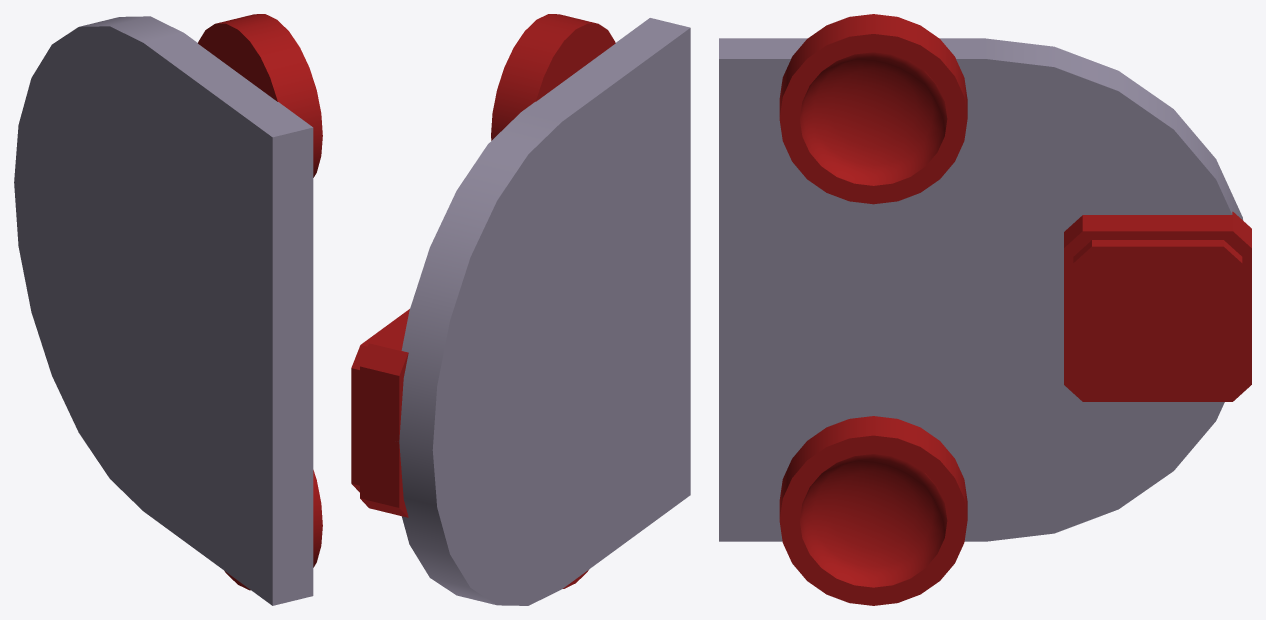
The model's file is Gate-AND.obj.
3 renders of one model, left to right at view 1: azimuth 30°, elevation 25°; view 2: azimuth 150°, elevation 25°; view 3: azimuth 270°, elevation 25°, orthographic. The views are drawn at different scales.
Parts seen in each view (by area): view 1: Handle, InputA, InputB; view 2: Handle, Output, InputA; view 3: Handle, Output, InputA, InputB.
Boxes of the visible parts, <box> form: Handle: <box>14,16,313,605</box>; InputA: <box>198,14,322,177</box>; InputB: <box>224,470,322,590</box>; Handle: <box>399,18,690,605</box>; Output: <box>351,309,409,517</box>; InputA: <box>491,14,615,140</box>; Handle: <box>719,38,1243,541</box>; Output: <box>1064,211,1251,401</box>; InputA: <box>779,14,967,204</box>; InputB: <box>779,416,967,605</box>.
Bounding box in the file's own units: 0.3273 × 2.01 × 1.7.
